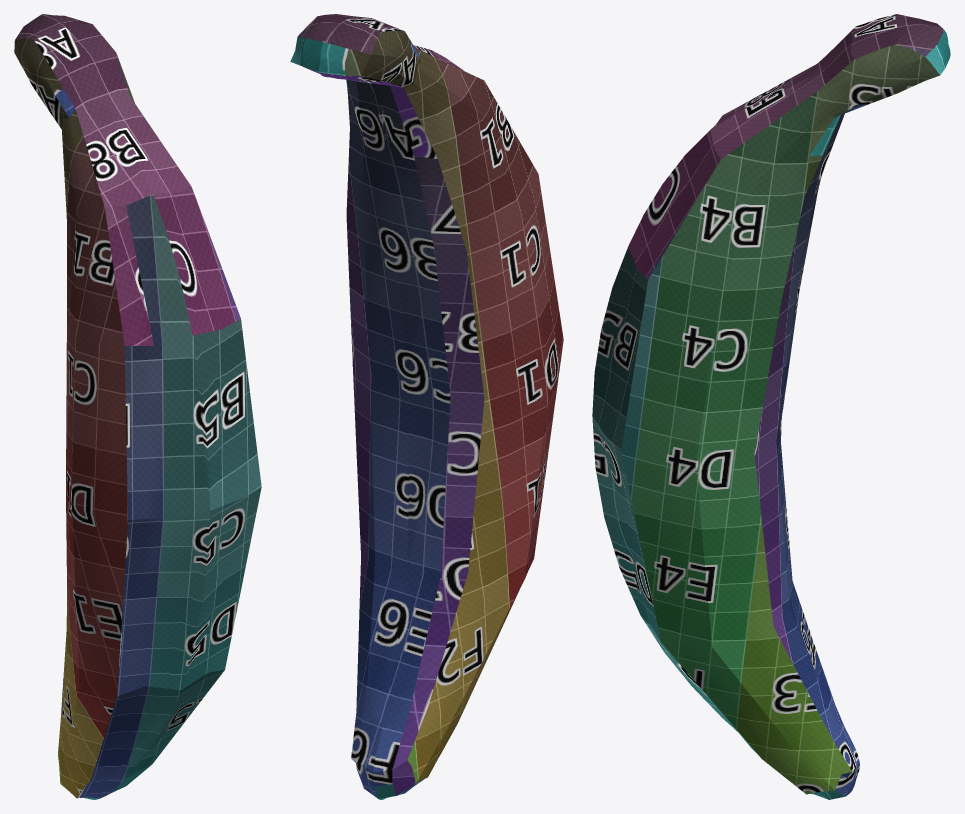
Rendered from banana 1.fbx.
3 renders of one model, left to right at view 1: azimuth 30°, elevation 25°; view 2: azimuth 150°, elevation 25°; view 3: azimuth 270°, elevation 25°, orthographic. The views are drawn at different scales.
Parts seen in each view (by area): view 1: Cube; view 2: Cube; view 3: Cube.
Part boxes in pixels (x1,y1,x2,y2): Cube: (14, 14, 261, 799); Cube: (290, 14, 563, 799); Cube: (592, 14, 950, 799).
Bounding box in the file's own units: 188 × 765 × 320.
1 material, 1 textured.
